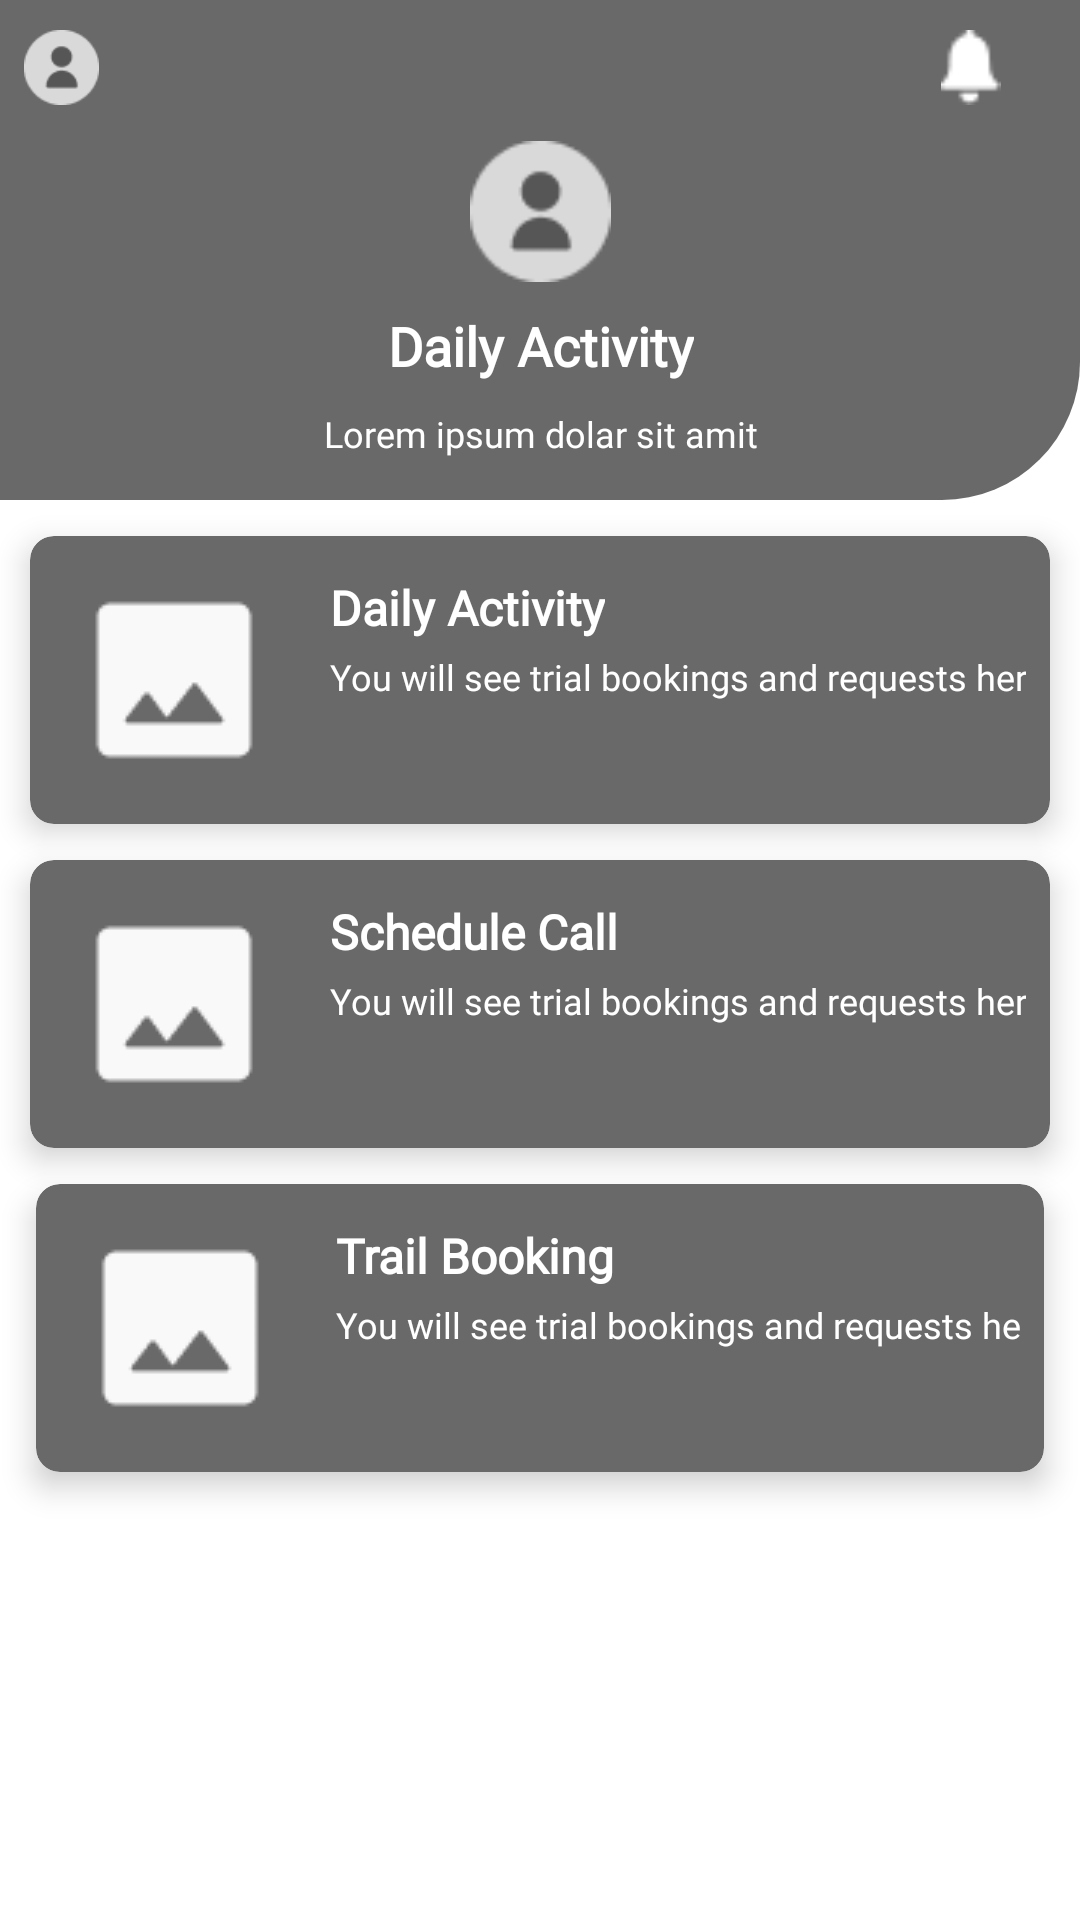

Icons on this 1080×1920 Android screen, each with its box as rect(x1, y1, x2, y2):
notification: rect(941, 30, 1001, 105)
photo: rect(96, 602, 252, 758), rect(96, 926, 252, 1082), rect(102, 1250, 258, 1406)
profile: rect(24, 30, 99, 105), rect(470, 141, 611, 282)
